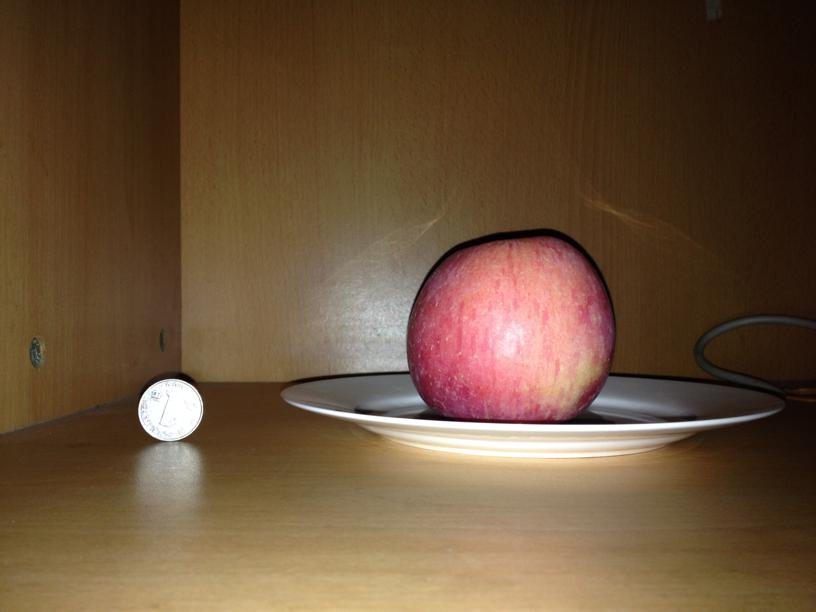apple: (407, 238, 614, 422)
coin: (138, 378, 204, 442)
